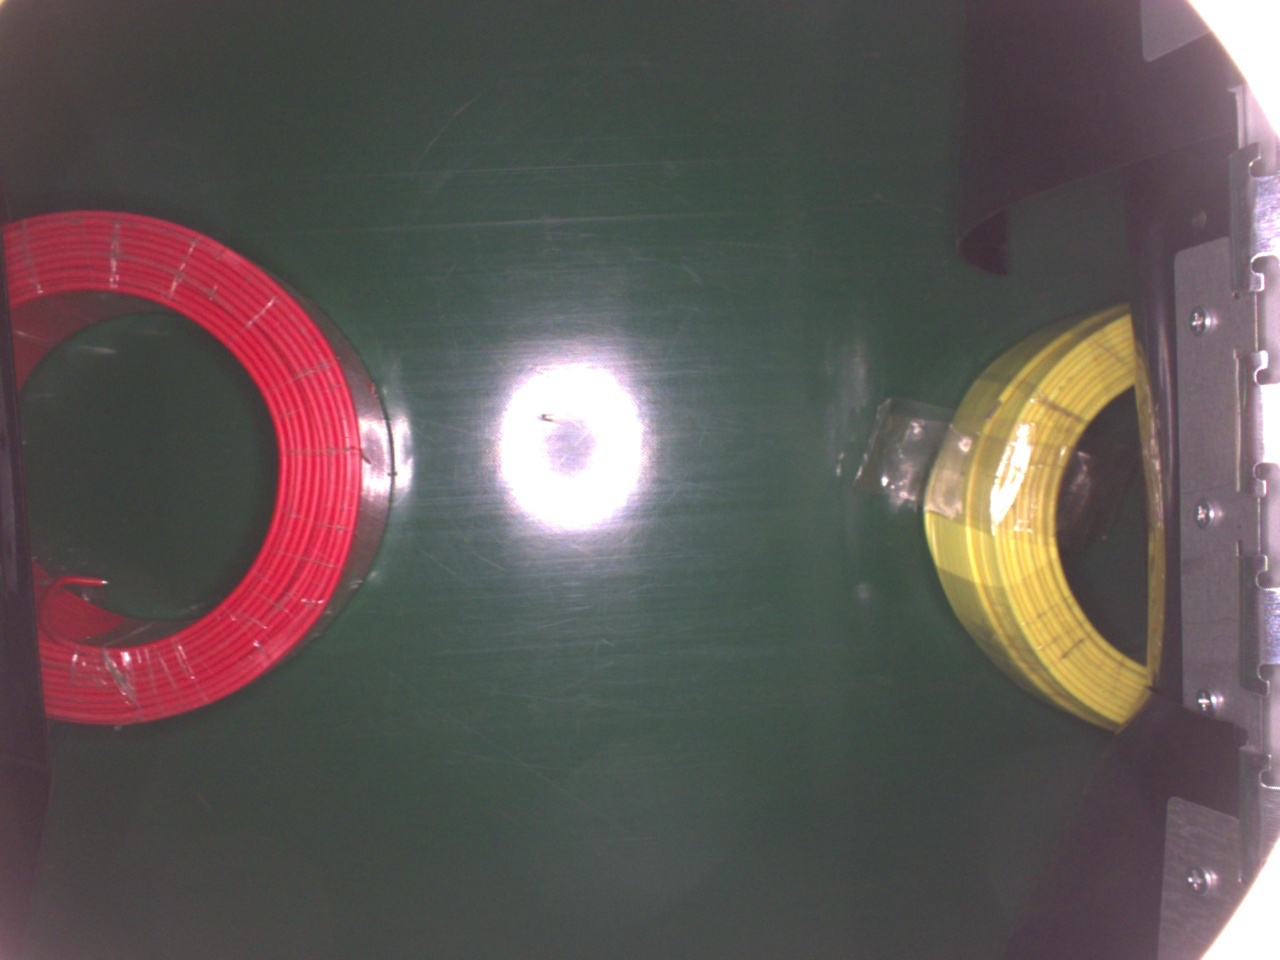red: (0, 199, 403, 745)
yellow: (917, 294, 1159, 734)
